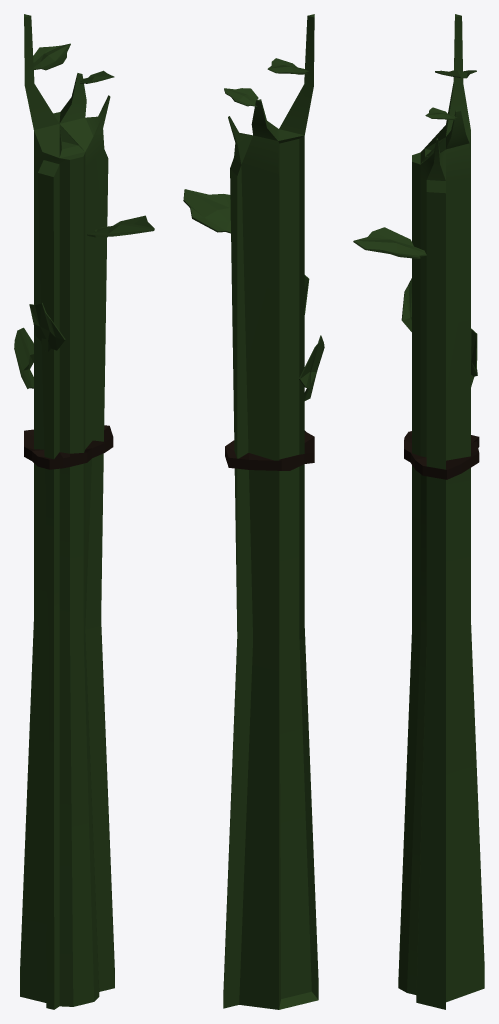
3 renders of one model, left to right at view 1: azimuth 30°, elevation 25°; view 2: azimuth 210°, elevation 25°; view 3: azimuth 270°, elevation 25°, orthographic. The views are drawn at different scales.
Visible parts, largest first — view 1: 冬葵_polySurface23; view 2: 冬葵_polySurface23; view 3: 冬葵_polySurface23.
Part boxes in pixels (x1,y1,x2,y2): 冬葵_polySurface23: (14,14,154,1009); 冬葵_polySurface23: (183,14,324,1009); 冬葵_polySurface23: (353,14,484,1009).
Bounding box in the file's own units: 4.53 × 5.14 × 41.13.
